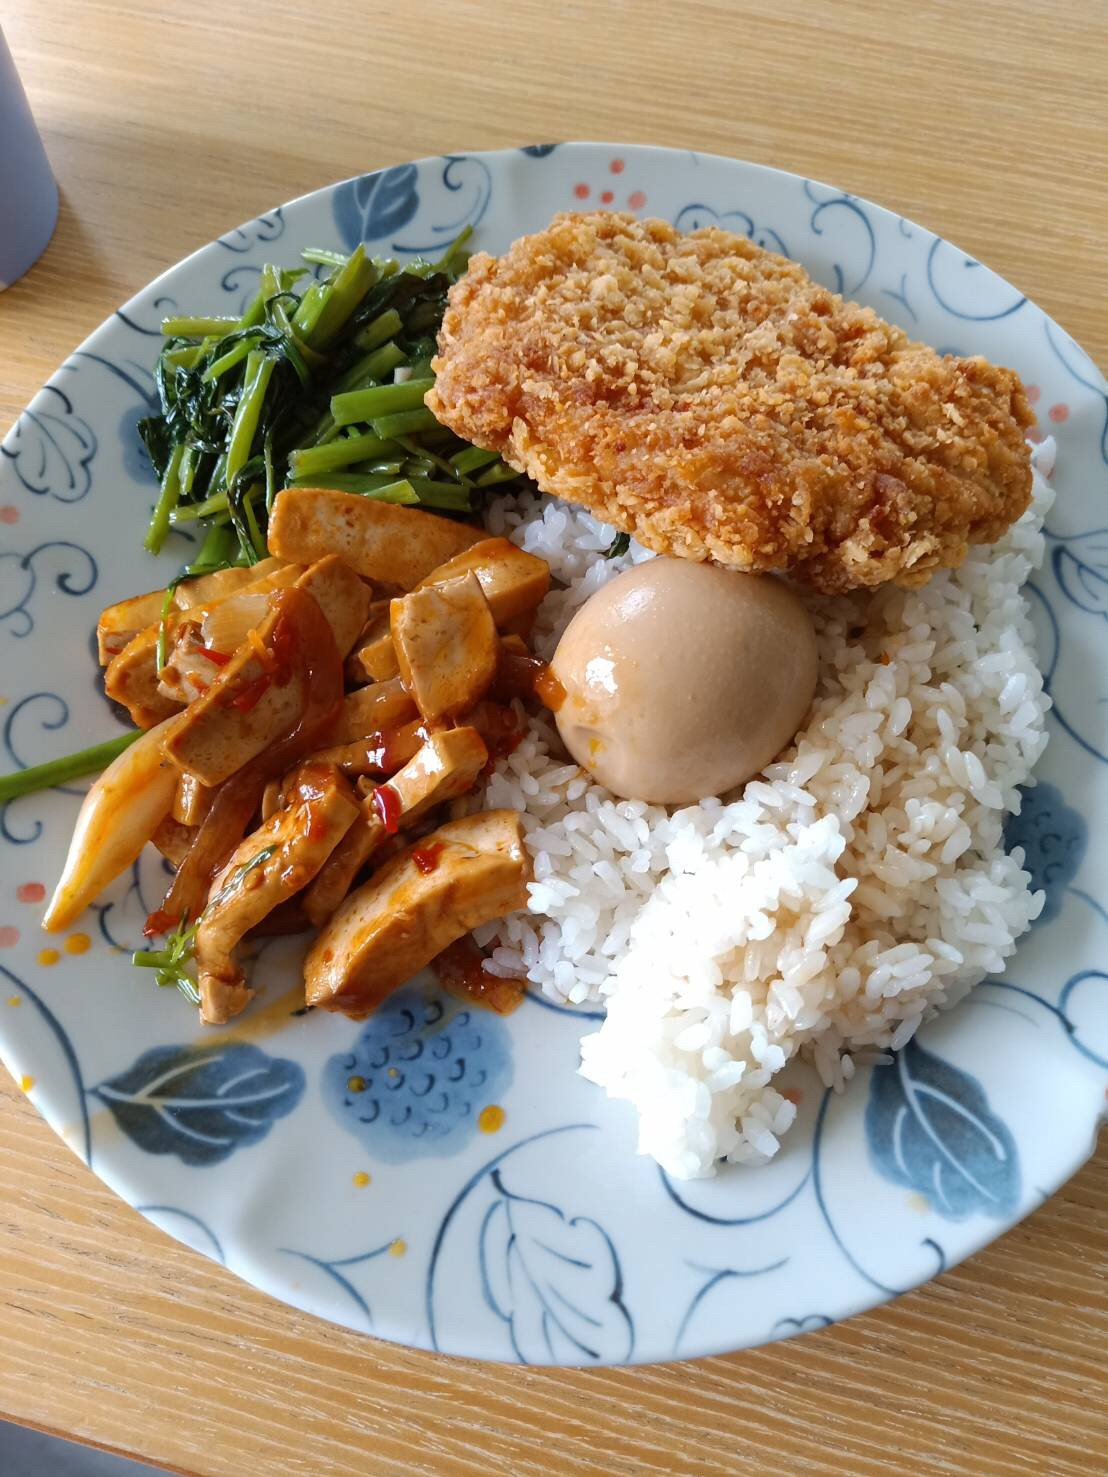fried_chicken: (449, 204, 1031, 594)
rice: (504, 757, 1040, 1172)
water_spinach: (162, 255, 436, 521)
